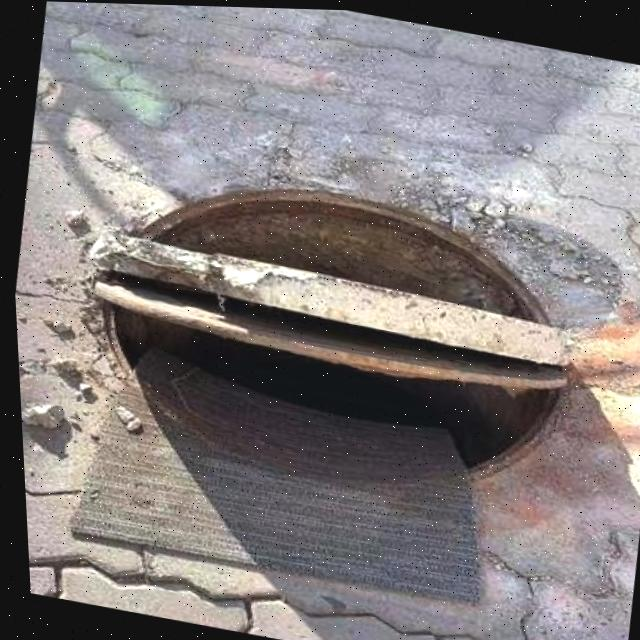manhole: (54, 146, 595, 511)
